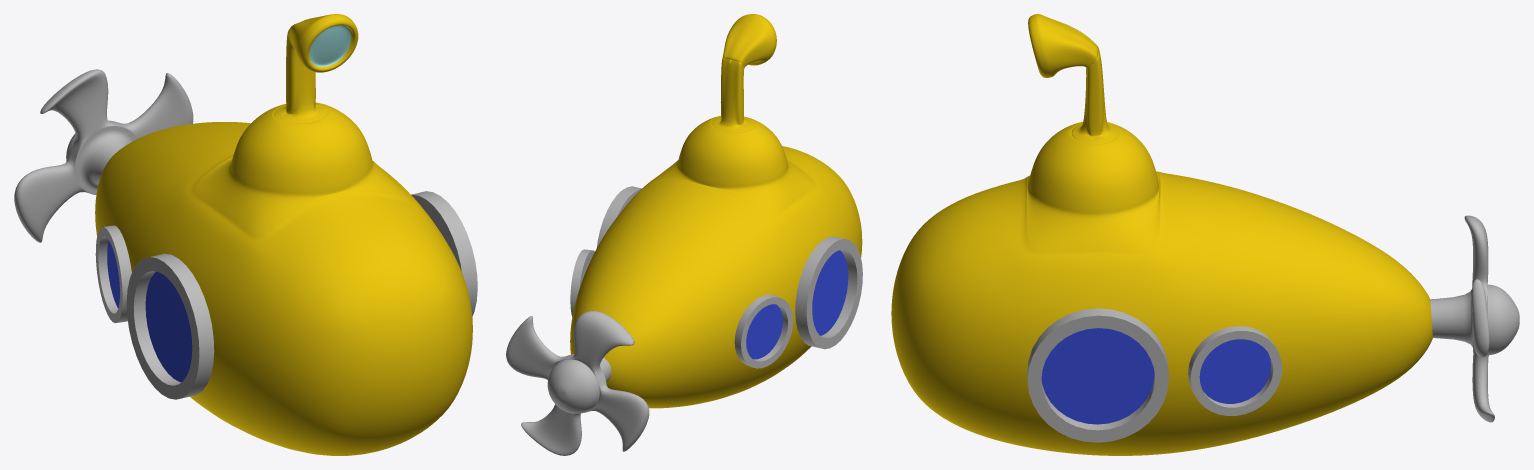
File: Podmornica_model2.fbx
3 renders of one model, left to right at view 1: azimuth 30°, elevation 25°; view 2: azimuth 150°, elevation 25°; view 3: azimuth 270°, elevation 25°, orthographic. The views are drawn at different scales.
Parts seen in each view (by area): view 1: Podmornica, Circle, Cylinder.001, Podmornica.001, Cylinder.003, Cylinder, Podmornica.002; view 2: Podmornica, Circle, Cylinder.001, Cylinder.003, Podmornica.001, Podmornica.002, Cylinder, Cylinder.002; view 3: Podmornica, Cylinder, Circle, Cylinder.002, Podmornica.001, Podmornica.002.
Part boxes in pixels (x1,y1,x2,y2): Podmornica: (95,102,472,455); Circle: (14,69,193,242); Cylinder.001: (126,253,214,399); Podmornica.001: (288,14,358,72); Cylinder.003: (95,225,131,323); Cylinder: (411,191,477,316); Podmornica.002: (274,32,328,123); Podmornica: (570,116,862,408); Circle: (506,310,649,455); Cylinder.001: (795,236,862,349); Cylinder.003: (734,294,793,368); Podmornica.001: (722,14,776,67); Podmornica.002: (711,58,753,131); Cylinder: (597,186,641,247); Cylinder.002: (570,249,594,316); Podmornica: (891,122,1432,455); Cylinder: (1027,308,1168,442); Circle: (1430,215,1519,422); Cylinder.002: (1188,326,1282,415); Podmornica.001: (1028,14,1098,77); Podmornica.002: (1072,47,1117,144).
Bounding box in the file's own units: 217 × 323 × 435.
